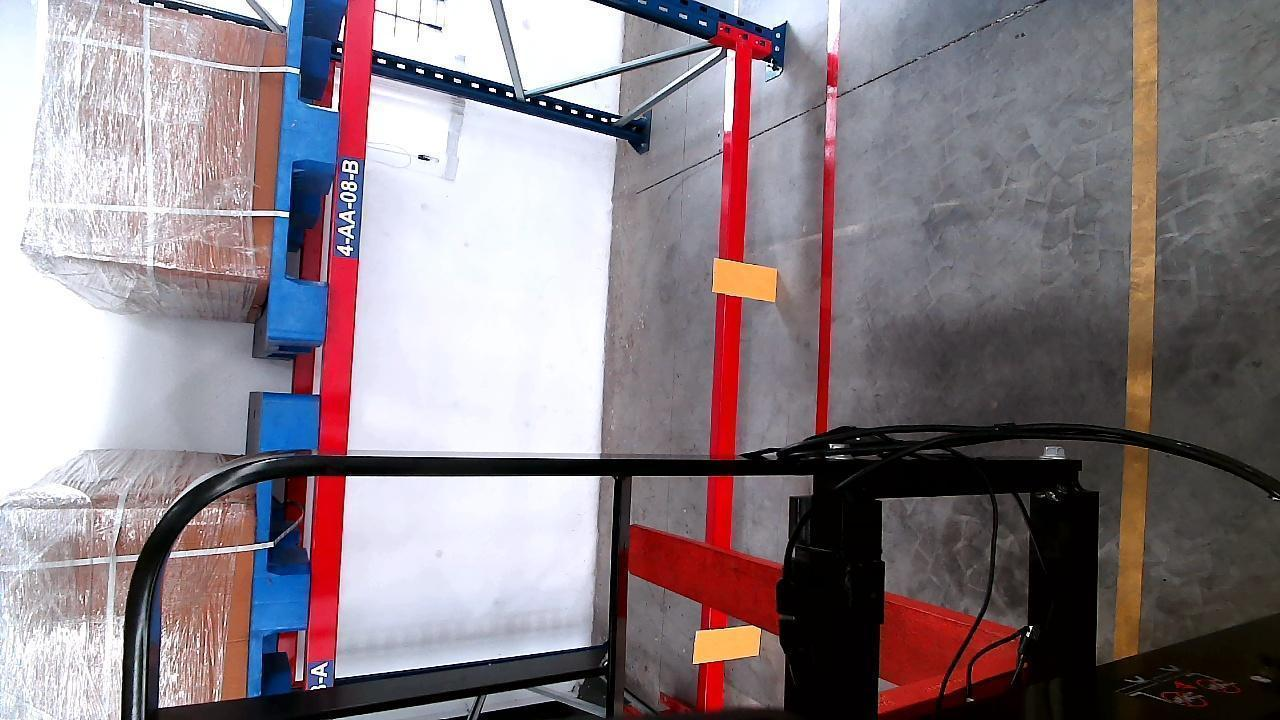red_line: (815, 6, 842, 443)
yellow_line: (1121, 0, 1159, 653)
